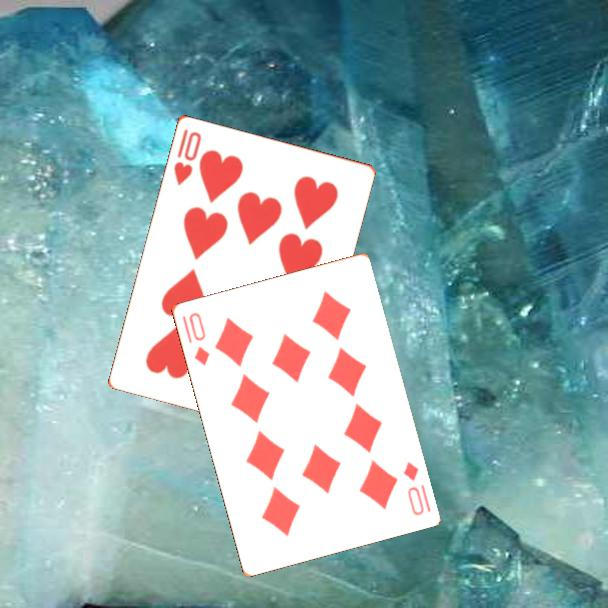d10: (399, 458, 433, 518), (185, 309, 212, 368)
h10: (170, 125, 204, 188)
